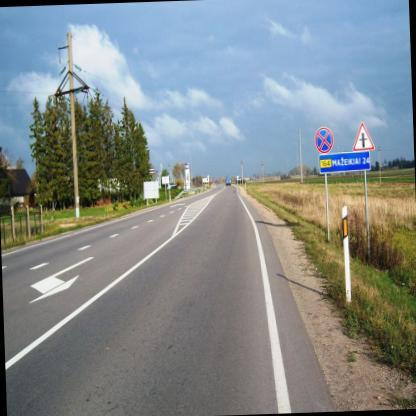road_sign: (353, 121, 374, 150), (314, 126, 334, 154)
